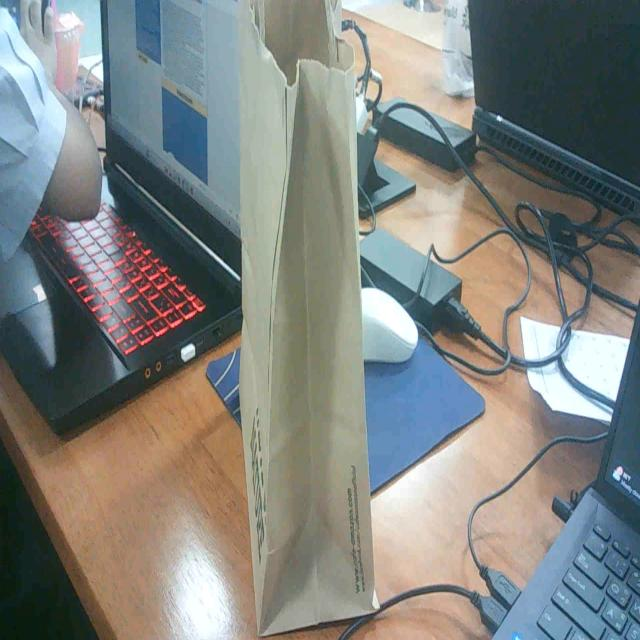bag: (236, 0, 393, 634)
